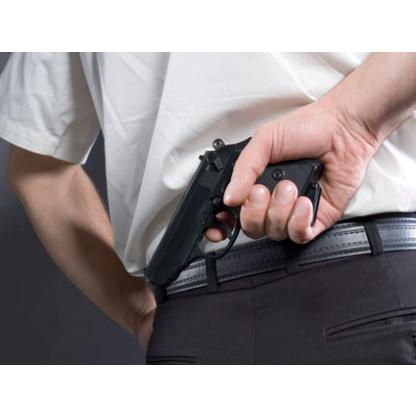gun: (136, 127, 332, 291)
